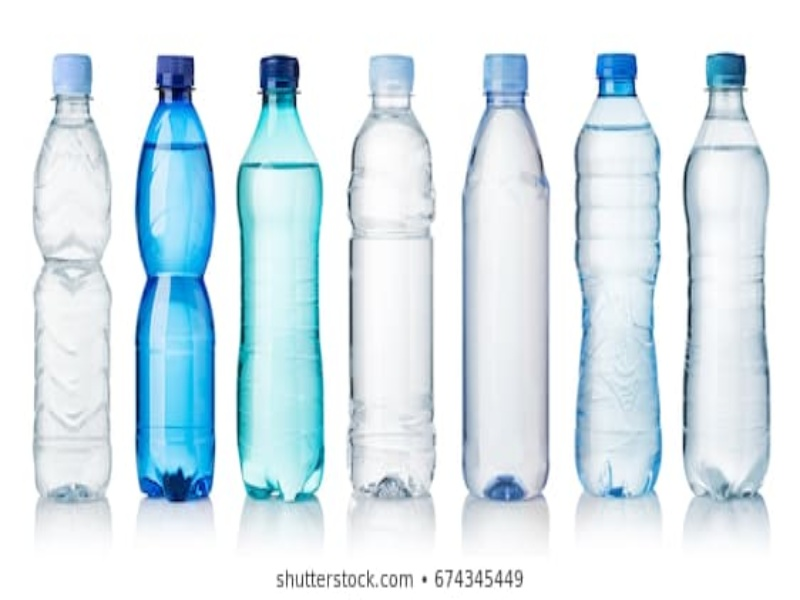bottle-cap: (43, 54, 104, 103), (481, 53, 536, 95), (365, 53, 417, 94), (702, 51, 750, 91), (148, 52, 200, 87), (253, 56, 305, 91), (594, 55, 639, 85)
plastic-bottle: (458, 52, 553, 503), (572, 51, 667, 502), (345, 54, 439, 509), (681, 51, 772, 503), (236, 52, 326, 505), (30, 53, 115, 505), (134, 54, 219, 506)
